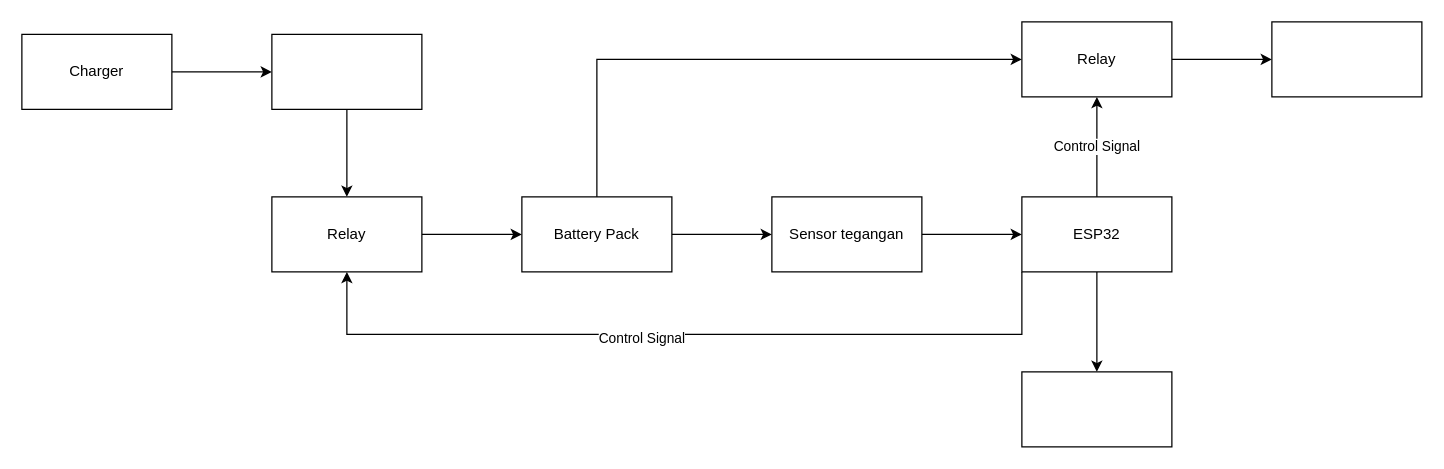
The diagram is 1444 pixels wide and 469 high, and some of its shapes have lost their labels. The centre of each missing label's shape, as x and y in pixels:
Database: the point at 1096,409
Load: the point at 1346,59
Step up / down: the point at 346,71
